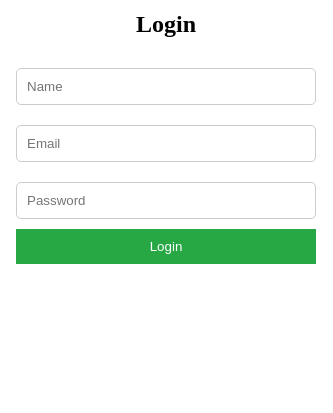
Test: Login Component › shows validation errors on empty submit
The width and height of the screenshot is (333, 413).
Click the button "Login".
click(166, 246)  # box [16, 229, 316, 264]
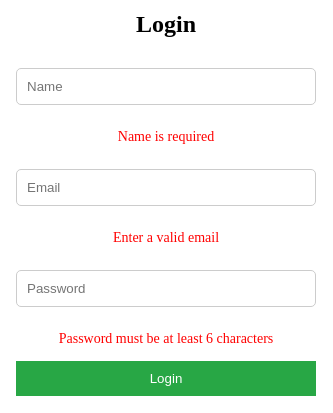
Check: the text "Name is required" is shown, box [118, 129, 214, 144]
Check: the text "Enter a valid email" is shown, box [113, 230, 219, 245]
Check: the text "Password must be at least 6 characters" is shown, box [59, 331, 273, 346]
